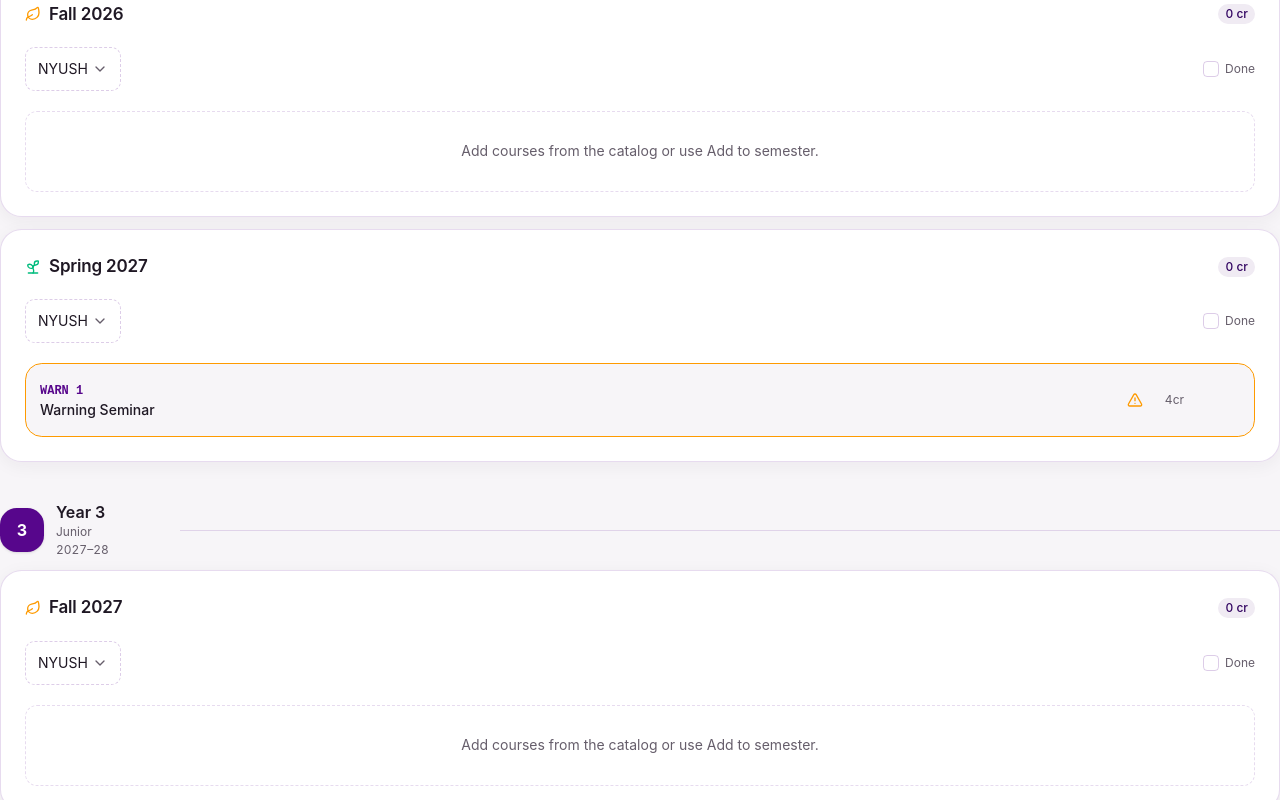
Scenario: PlannerBoard › reports a warning directly from a planned course
(page scrolled)
Click the button named "Warnings for WARN 1" at (1135, 400), box [1117,382,1153,418]
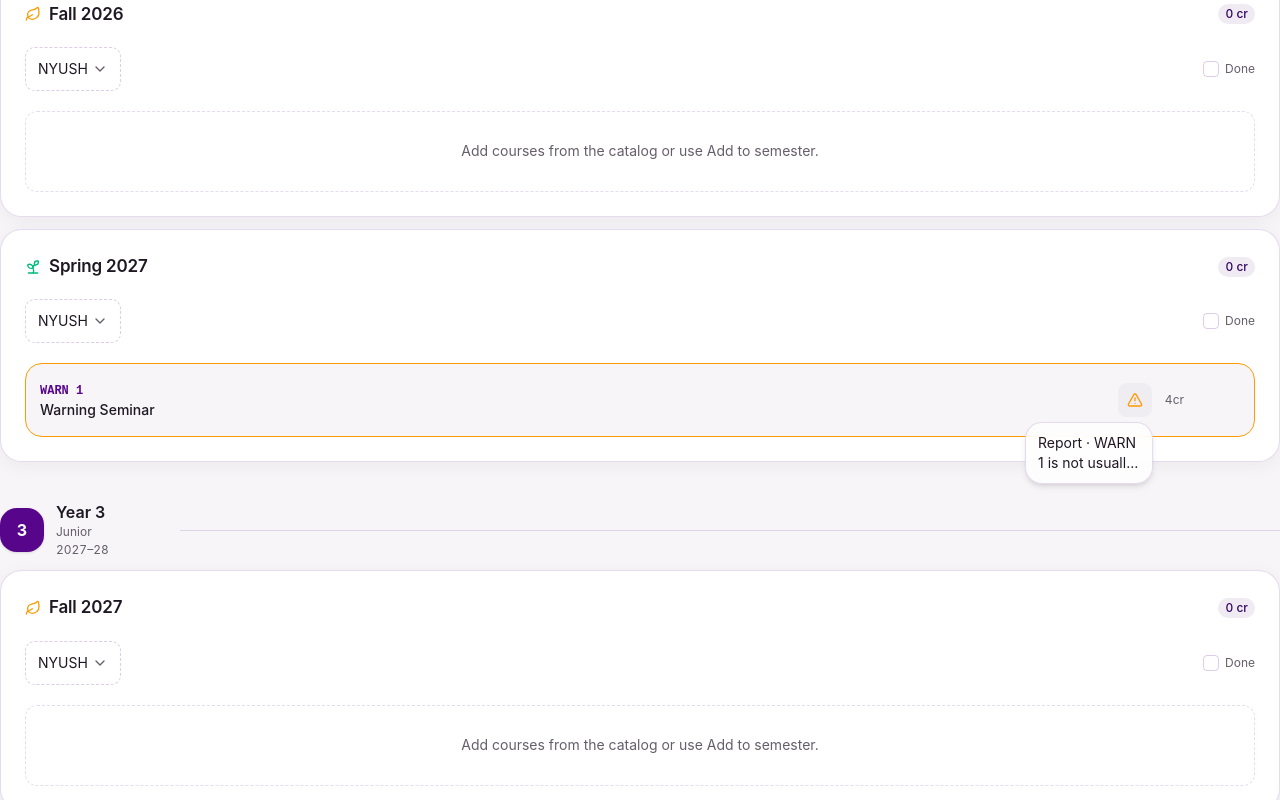
Click the menu item "Report · WARN 1 is not usually offered in spring." at (1089, 453), box [1032,429,1146,477]
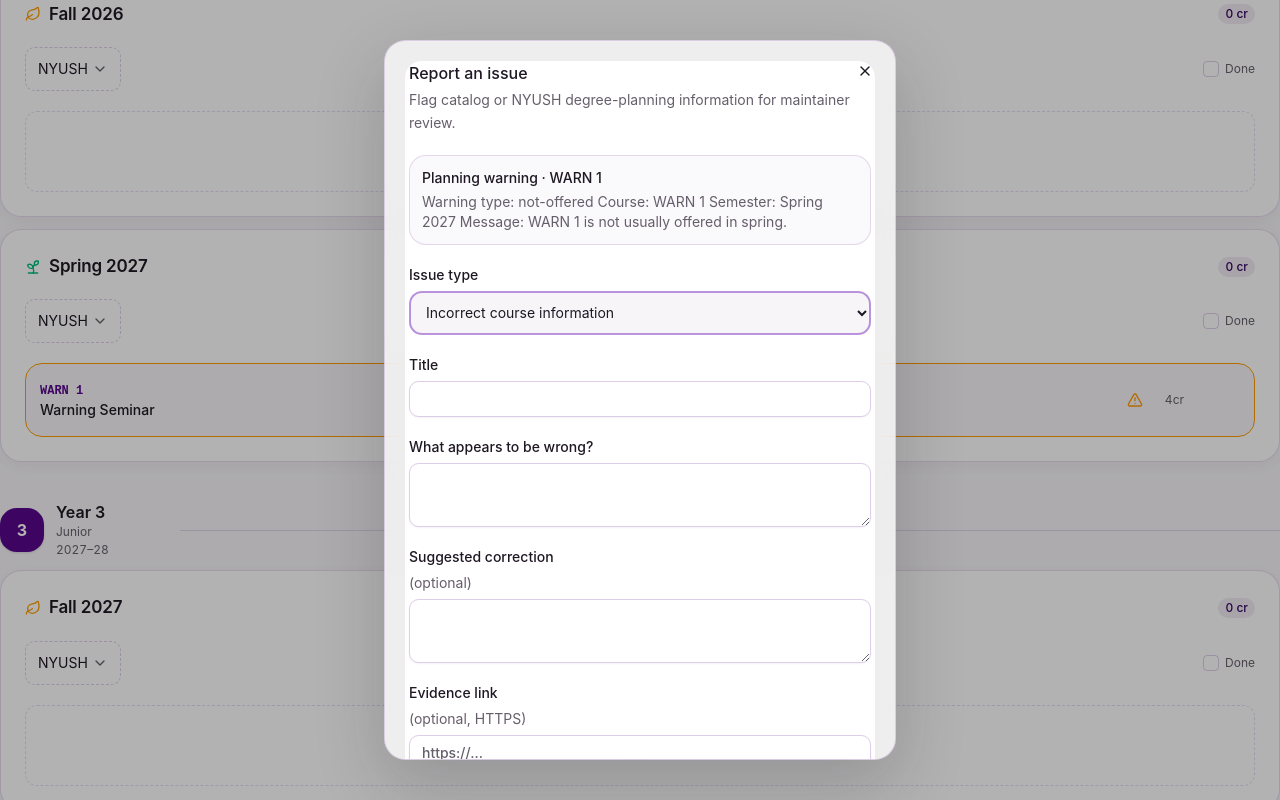
Check: the heading "Report an issue" is shown, box [409,63,528,83]
Check: the text "Planning warning · WARN 1" is shown, box [422,168,602,186]
